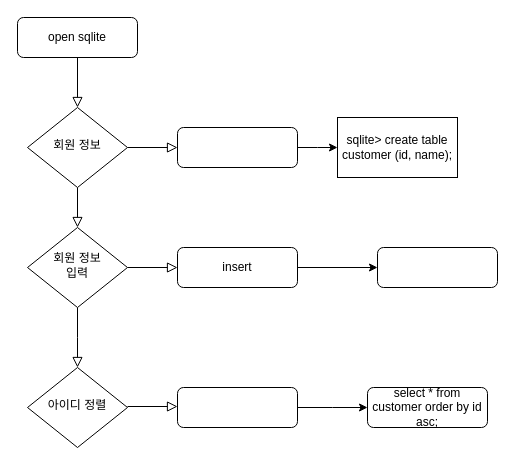
This 515x465 diagram has some shape labels left out. The box of each missing label's shape, as (x1, y1, x2, y2) in pixels:
create customer table: (176, 126, 298, 168)
insert into customer values(id, name): (376, 246, 498, 288)
select: (176, 386, 298, 428)
